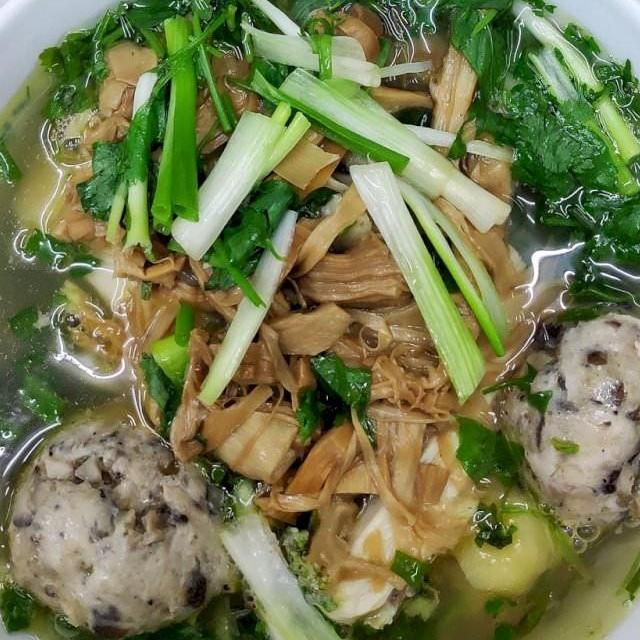vien moc: (0, 396, 249, 637), (479, 284, 640, 552)
